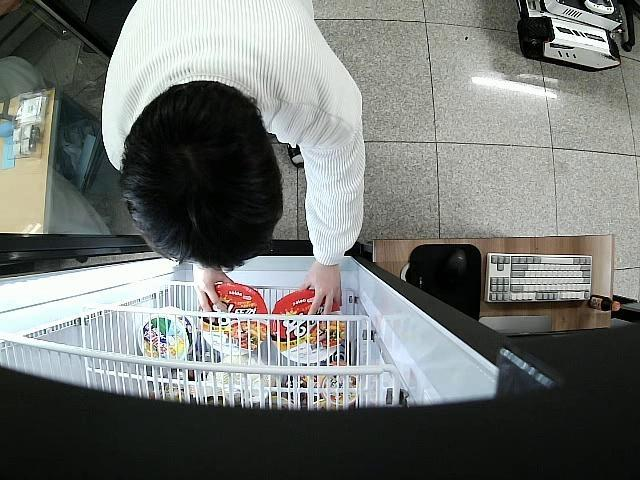10_wangTtukkeong: (272, 292, 345, 363), (198, 284, 268, 355)
